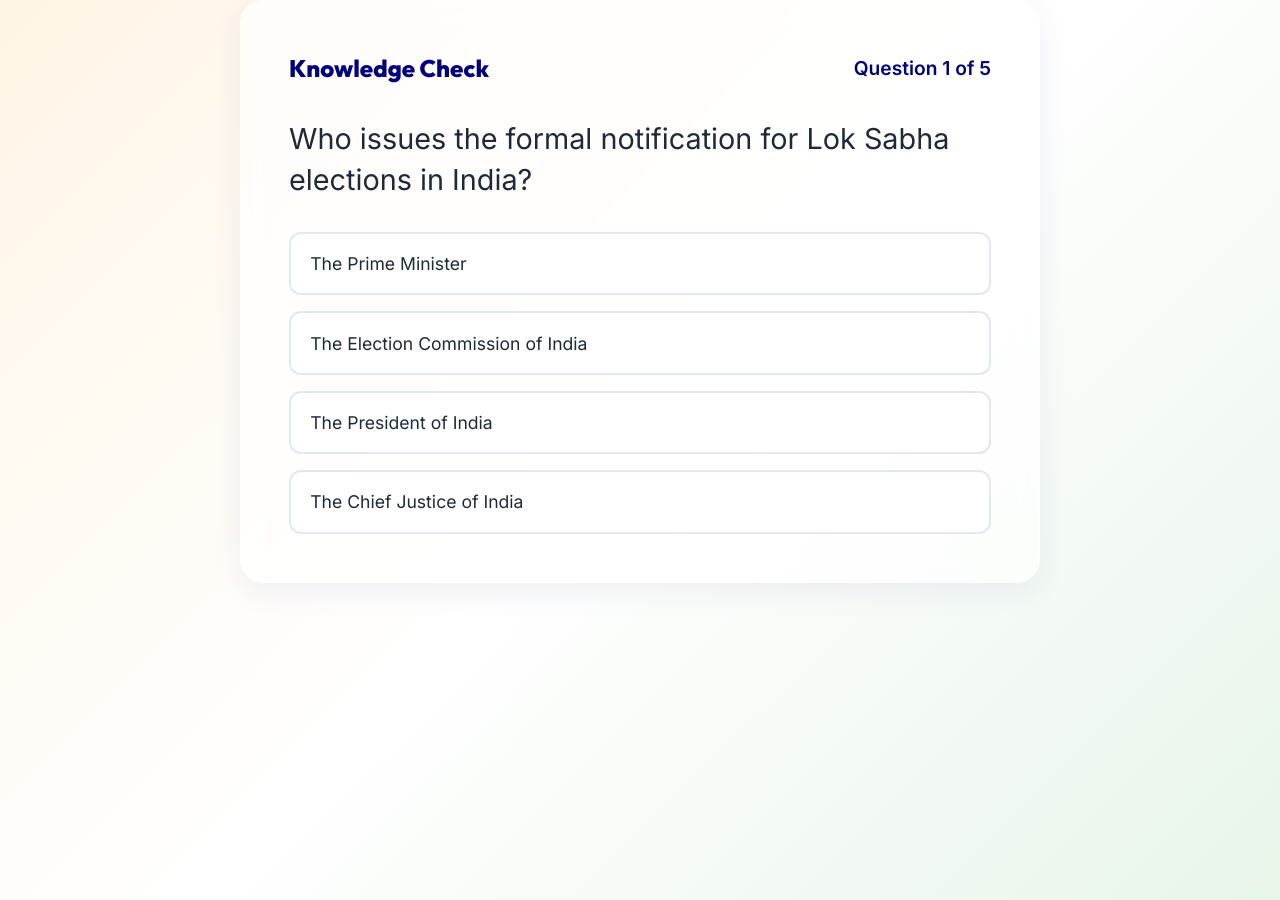
Test: Quiz Component › updates score and shows explanation on correct answer
// Find the correct answer for the first question (The President of India)
Click the radio button "The President of India": (401, 422) [289,391,991,454]
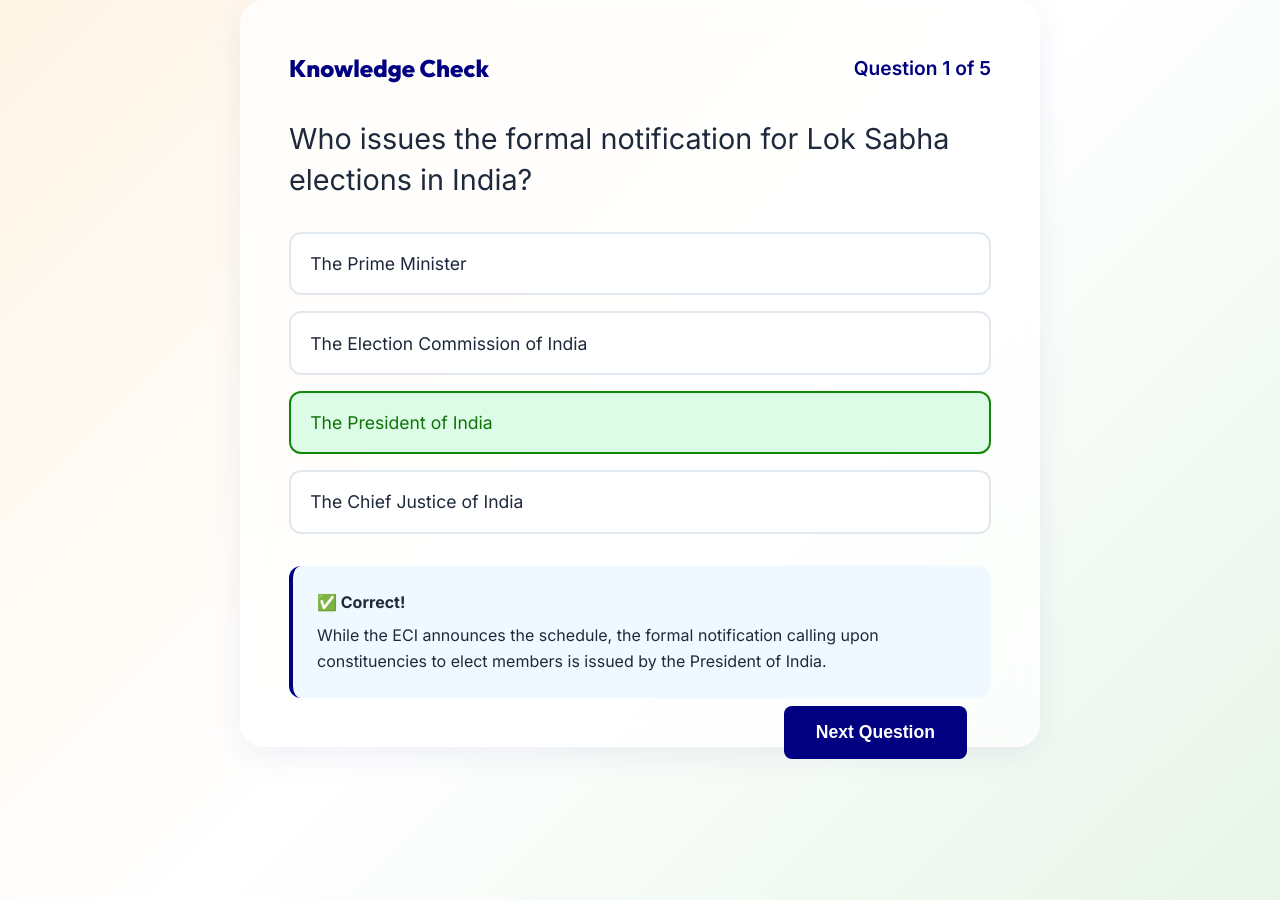
Now the text "✅ Correct!" is shown, box [317,592,405,612]
Now the button "Next Question" is shown, box [784,706,967,759]
